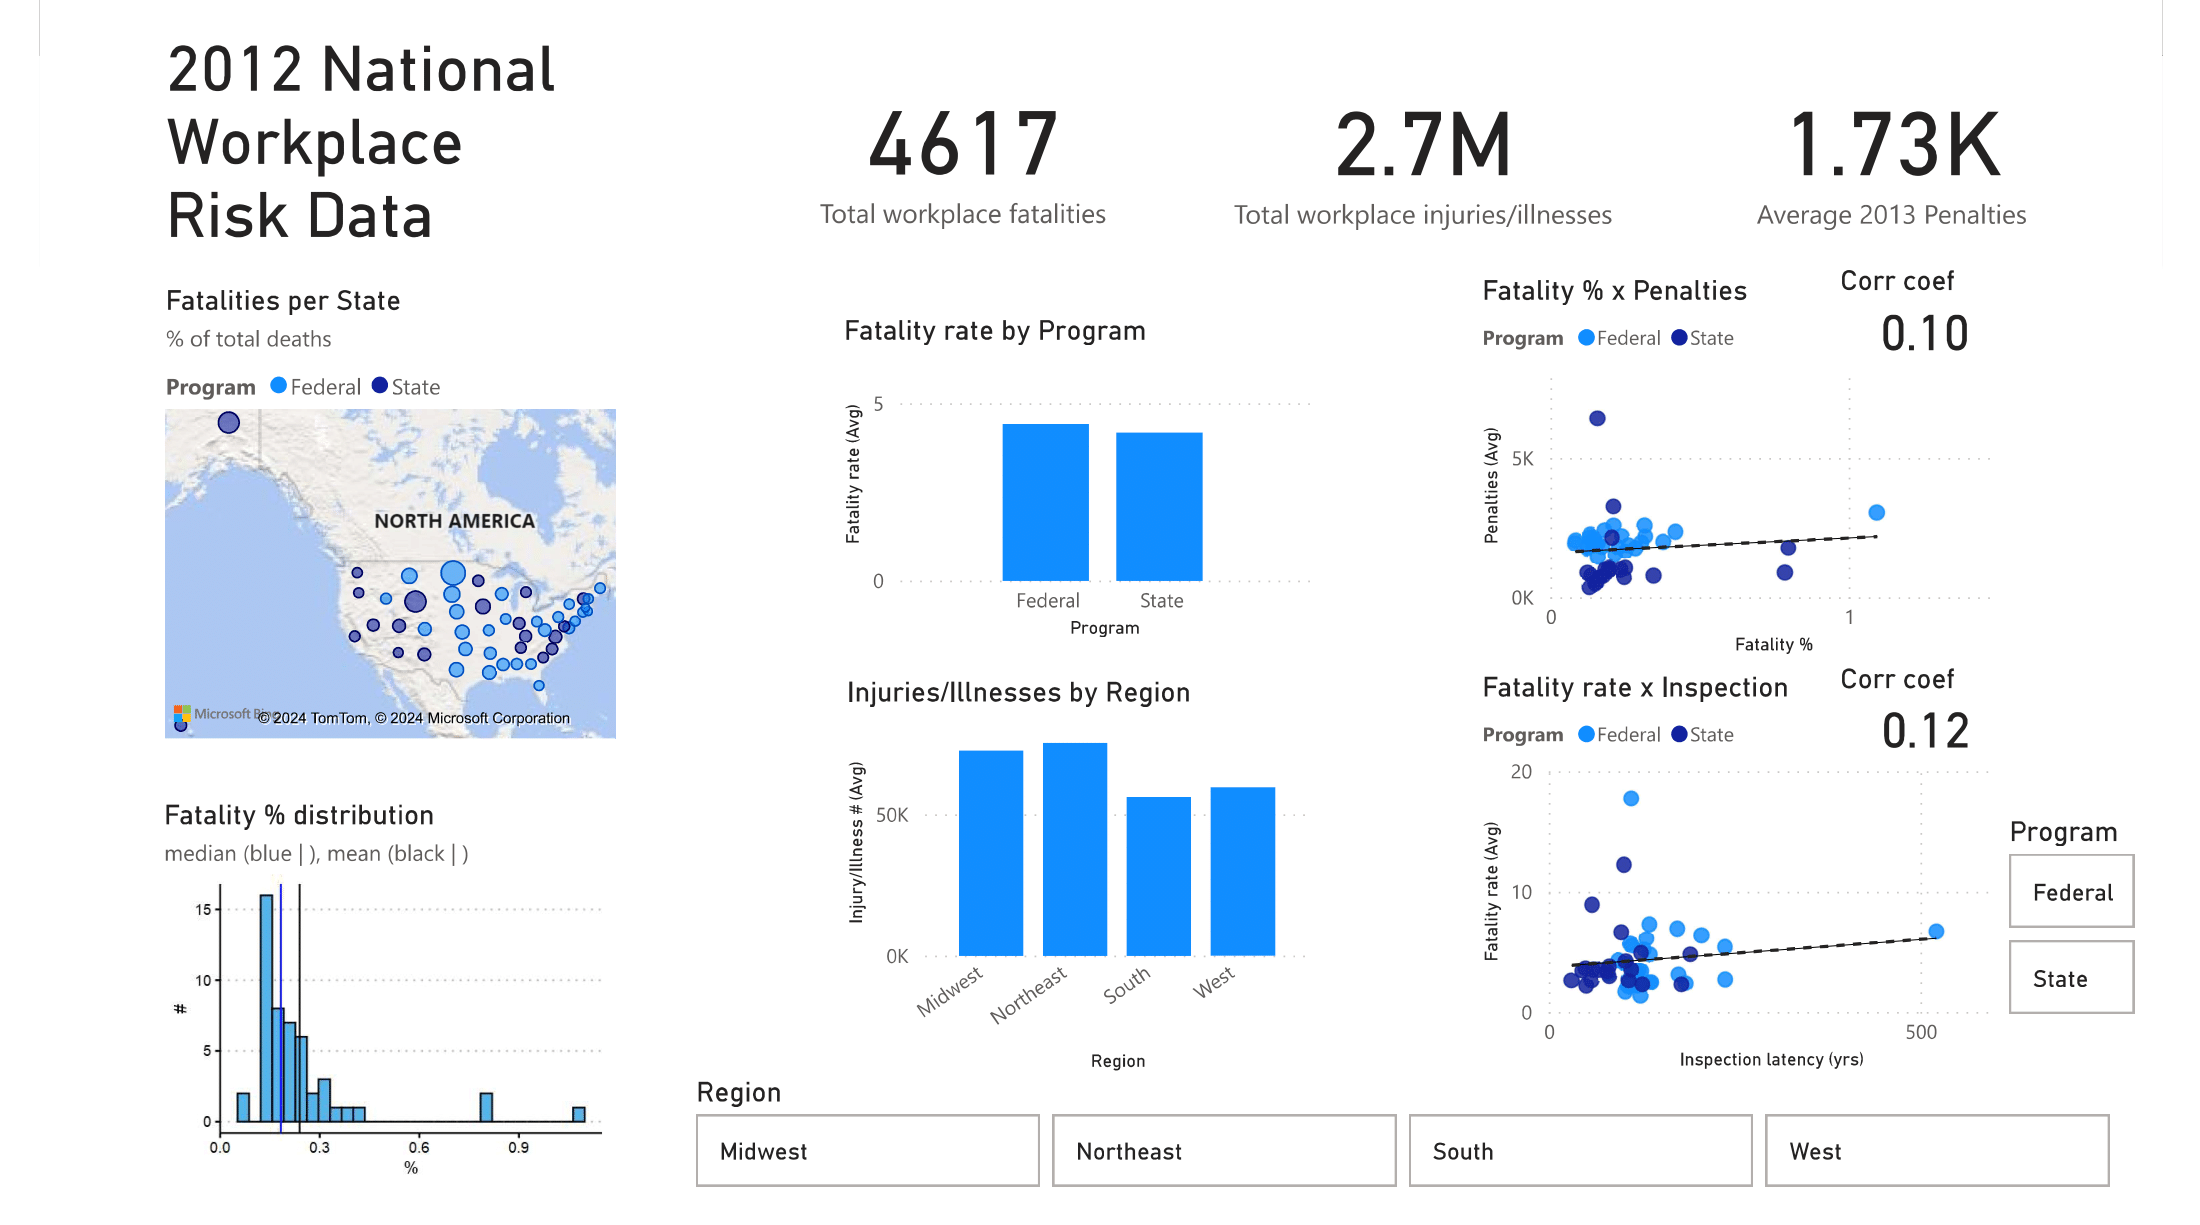

Layout of this report page (visuals, bound fields, positions):
{"tool":"powerbi","page":{"name":"Report","canvas":[1280,720],"ordinal":0},"visuals":[{"type":"map","title":"Fatalities per State","fields":{"Category":["2012_Workplace_Fatalities_by_State.State"],"Y":["Avg(2012_Workplace_Fatalities_by_State.Latitude)"],"X":["Avg(2012_Workplace_Fatalities_by_State.Longitude)"],"Size":["Sum(2012_Workplace_Fatalities_by_State.Fatality_perc)"],"Series":["2012_Workplace_Fatalities_by_State.Program Hierarchy.Program"]},"box":[71.3,171,280.8,279.4],"z":0},{"type":"scriptVisual","title":"Fatality % distribution","fields":{"Values":["Sum(2012_Workplace_Fatalities_by_State.Fatality_perc)"]},"box":[70.3,480.9,280.1,239.1],"z":1000},{"type":"card","title":"2012 National workplace risk stats","fields":{"Values":["Sum(2012_Workplace_Fatalities_by_State.Fatality_num)"]},"box":[430.7,32.3,252,115.4],"z":2000},{"type":"card","fields":{"Values":["Sum(2012_Workplace_Fatalities_by_State.Injury_Illness_num)"]},"box":[695.1,32.3,279.3,116.7],"z":3000},{"type":"clusteredColumnChart","title":"Fatality rate by Program","fields":{"Category":["2012_Workplace_Fatalities_by_State.Program Hierarchy.Program","2012_Workplace_Fatalities_by_State.Program Hierarchy.State"],"Y":["Avg(2012_Workplace_Fatalities_by_State.Fatality_rate)"]},"box":[480.4,188.7,290.5,199.8],"z":4000},{"type":"clusteredColumnChart","title":"Injuries/Illnesses by Region","fields":{"Category":["nst-est2019-alldata.Region Hierarchy.Region","nst-est2019-alldata.Region Hierarchy.State"],"Y":["Avg(2012_Workplace_Fatalities_by_State.Injury_Illness_num)"]},"box":[481.6,407.1,290.5,243.3],"z":5000},{"type":"scatterChart","title":"Fatality rate x Inspection","fields":{"X":["Sum(2012_Workplace_Fatalities_by_State.Years_to_inspect)"],"Y":["Sum(2012_Workplace_Fatalities_by_State.Fatality_rate)"],"Series":["2012_Workplace_Fatalities_by_State.Program Hierarchy.Program"]},"box":[864.7,403.8,329.3,245.2],"z":6000},{"type":"card","fields":{"Values":["Avg(2012_Workplace_Fatalities_by_State.Penalties_avg)"]},"box":[987.7,32.6,258.1,115.8],"z":7000},{"type":"card","title":"Corr coef","fields":{"Values":["2012_Workplace_Fatalities_by_State.Years_to_inspect and Fatality_rate correlation for State"]},"box":[1081.4,399,112.2,59.1],"z":8000},{"type":"scatterChart","title":"Fatality % x Penalties","fields":{"X":["Sum(2012_Workplace_Fatalities_by_State.Fatality_perc)"],"Y":["Sum(2012_Workplace_Fatalities_by_State.Penalties_avg)"],"Series":["2012_Workplace_Fatalities_by_State.Program Hierarchy.Program"]},"box":[864.6,165,329.3,233.8],"z":9000},{"type":"card","title":"Corr coef","fields":{"Values":["2012_Workplace_Fatalities_by_State.Fatality_perc and Penalties_avg correlation for State"]},"box":[1081.3,159.5,112.2,59.1],"z":10000},{"type":"advancedSlicerVisual","fields":{"Values":["nst-est2019-alldata.Region Hierarchy.Region"]},"box":[391,648,865.2,72],"z":11000},{"type":"textbox","box":[70.8,13.7,281.8,150.2],"z":12000},{"type":"advancedSlicerVisual","title":"Program","fields":{"Values":["StateMeasures.Program Hierarchy.Program"]},"box":[1182.9,491.3,85.1,126.2],"z":13000}]}

Visuals, with their boxes in screenshot pixels (x1, y1, x2, y2), scaled from the page's 1280x720 canvas onto the 2200x1225 screenshot:
"Fatalities per State" map: (left=123, top=291, right=605, bottom=766)
"Fatality % distribution" scriptVisual: (left=121, top=818, right=602, bottom=1224)
"2012 National workplace risk stats" card: (left=740, top=55, right=1173, bottom=251)
card - Sum(2012_Workplace_Fatalities_by_State.Injury_Illness_num): (left=1195, top=55, right=1675, bottom=254)
"Fatality rate by Program" clusteredColumnChart: (left=826, top=321, right=1325, bottom=661)
"Injuries/Illnesses by Region" clusteredColumnChart: (left=828, top=693, right=1327, bottom=1107)
"Fatality rate x Inspection" scatterChart: (left=1486, top=687, right=2052, bottom=1104)
card - Avg(2012_Workplace_Fatalities_by_State.Penalties_avg): (left=1698, top=55, right=2141, bottom=252)
"Corr coef" card: (left=1859, top=679, right=2052, bottom=779)
"Fatality % x Penalties" scatterChart: (left=1486, top=281, right=2052, bottom=679)
"Corr coef" card: (left=1858, top=271, right=2051, bottom=372)
advancedSlicerVisual - nst-est2019-alldata.Region Hierarchy.Region: (left=672, top=1102, right=2159, bottom=1224)
textbox: (left=122, top=23, right=606, bottom=279)
"Program" advancedSlicerVisual: (left=2033, top=836, right=2179, bottom=1051)
